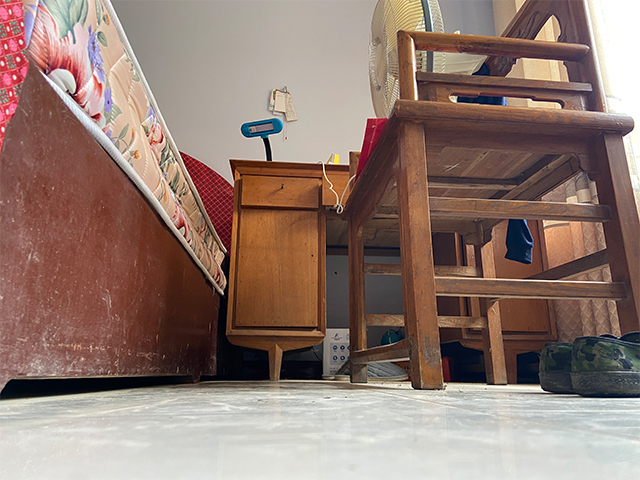bed: (1, 1, 235, 393)
curtain: (493, 1, 640, 343)
slippers: (322, 355, 411, 384)
stool: (341, 1, 640, 390)
table: (226, 158, 560, 384)
